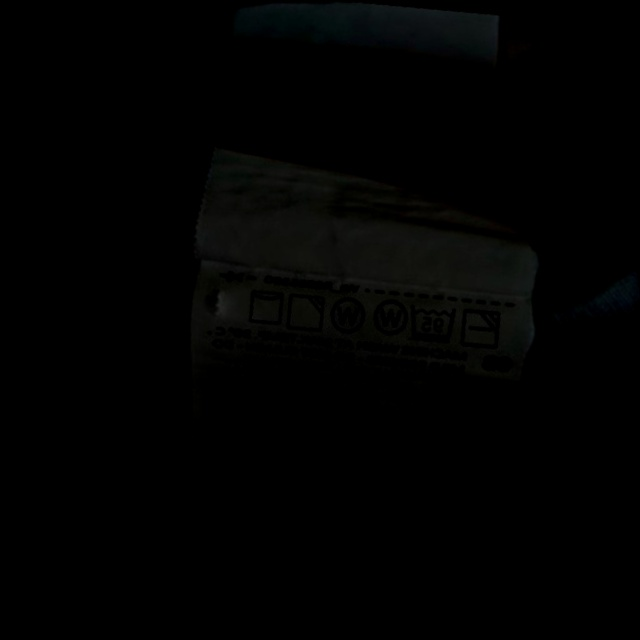95C: (401, 295, 464, 351)
dry_flat_in_shade: (454, 300, 509, 357)
line_dry: (239, 280, 292, 333)
shade_dry: (279, 285, 332, 339)
wet_clean: (364, 289, 414, 343), (322, 290, 373, 342)
